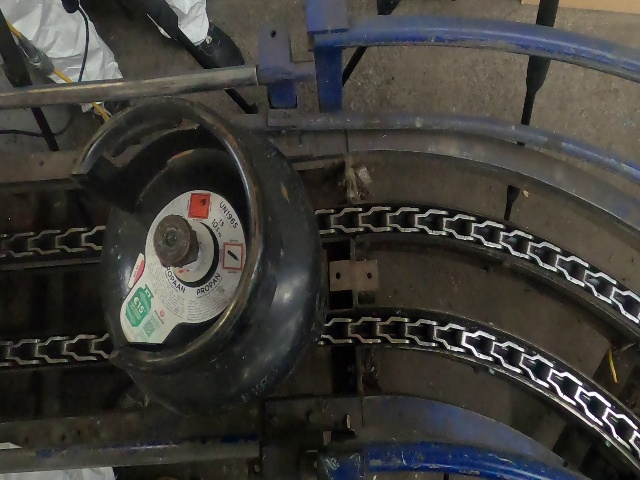gas_bottle: (12, 12, 640, 480)
